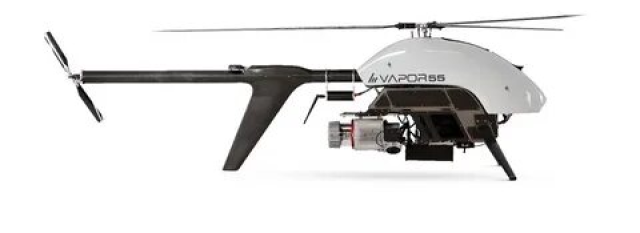military drone: (43, 13, 584, 181)
